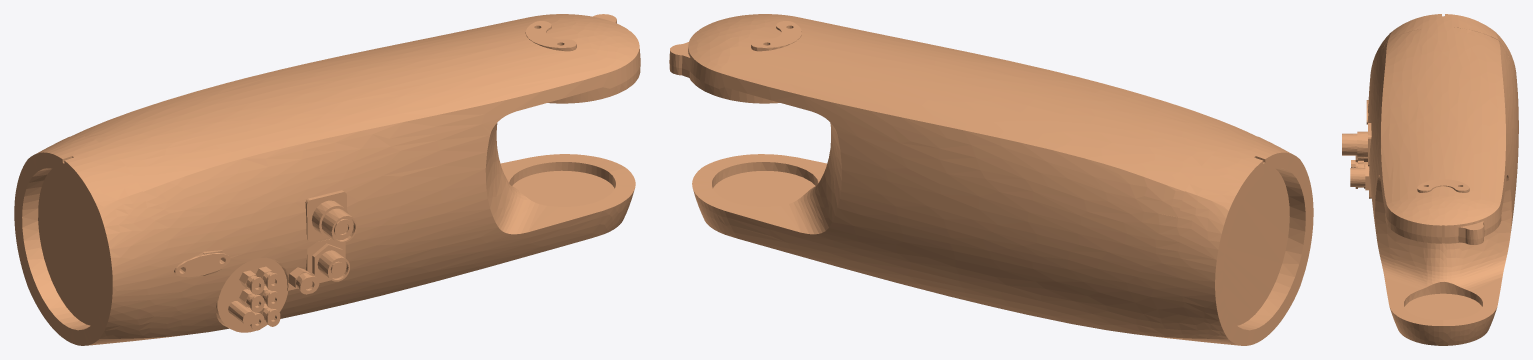
The picture shows the model from 3 angles, left to right: view 1: azimuth 30°, elevation 25°; view 2: azimuth 150°, elevation 25°; view 3: azimuth 270°, elevation 25°; orthographic projection. The views are drawn at different scales.
Parts seen in each view (by area): view 1: /link_4/link_4_001-mesh/0; view 2: /link_4/link_4_001-mesh/0; view 3: /link_4/link_4_001-mesh/0.
Boxes of the visible parts, bbox=[...] form: /link_4/link_4_001-mesh/0: bbox=[14, 14, 640, 345]; /link_4/link_4_001-mesh/0: bbox=[669, 14, 1313, 345]; /link_4/link_4_001-mesh/0: bbox=[1342, 14, 1518, 345].
Size of the model in its own units: 0.359 by 0.1183 by 0.1291.
